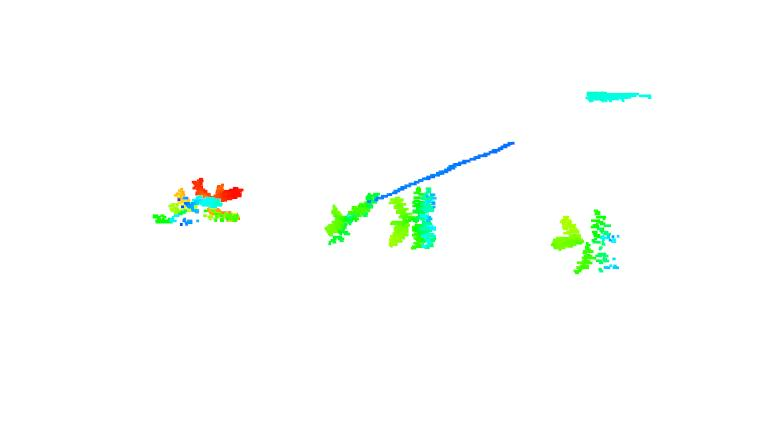chickpea: (152, 174, 248, 228), (550, 207, 622, 276), (386, 185, 439, 255), (324, 188, 383, 247)
